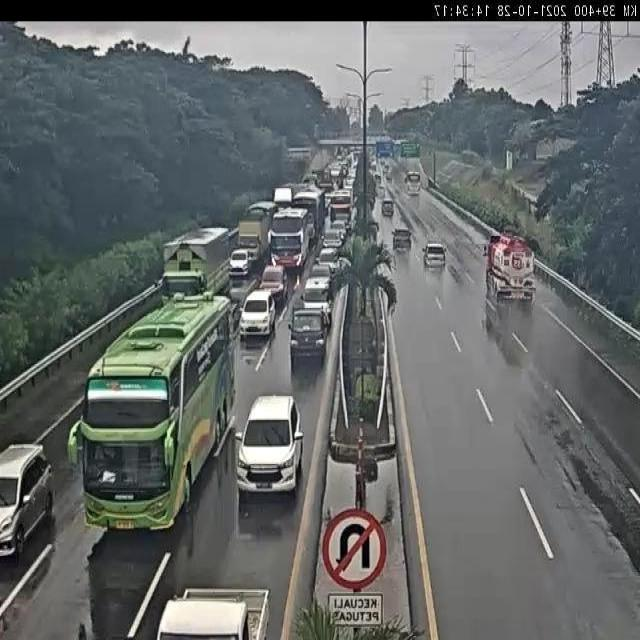Bus: (66, 291, 233, 534), (269, 207, 310, 269), (294, 187, 326, 239), (403, 170, 421, 197)
Car: (235, 392, 308, 498), (0, 440, 55, 559), (238, 288, 276, 339), (228, 248, 254, 279), (422, 242, 448, 272), (315, 246, 341, 276), (259, 266, 286, 294), (392, 229, 413, 253), (381, 198, 395, 217)
Truck: (153, 582, 272, 640), (152, 222, 230, 305), (483, 230, 537, 305), (288, 305, 330, 367), (236, 203, 273, 261)
Van: (300, 271, 334, 320)
